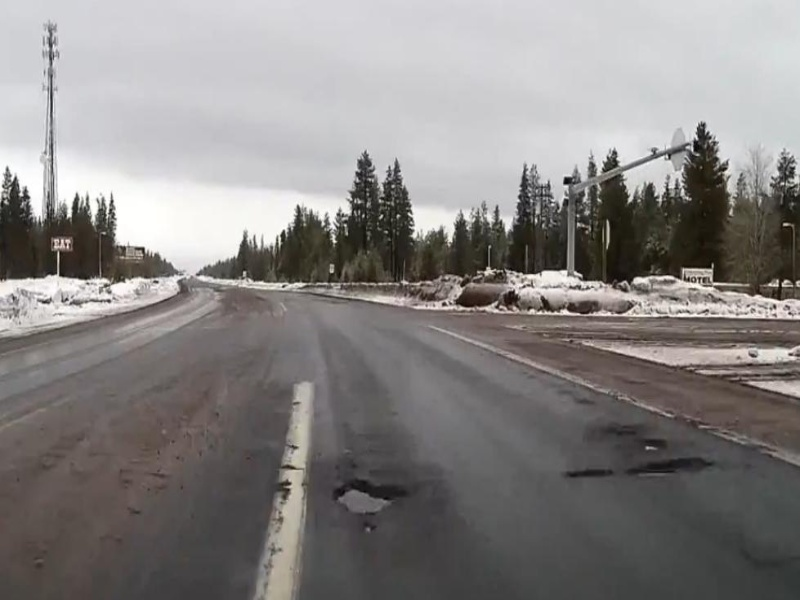pothole: (327, 475, 411, 516)
